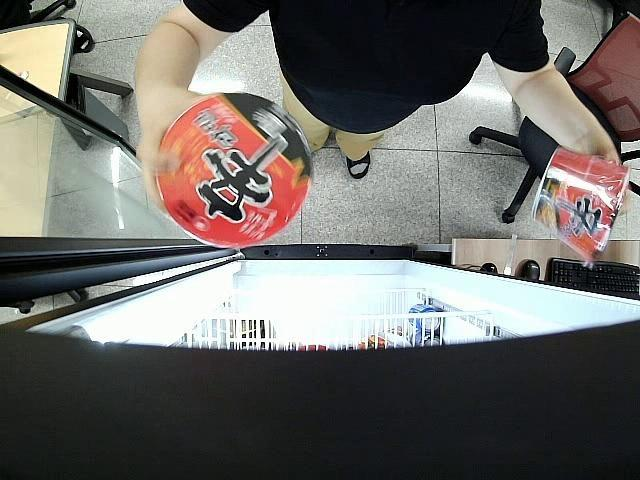01_ShinRamen_L: (158, 94, 312, 247), (532, 146, 634, 263)
